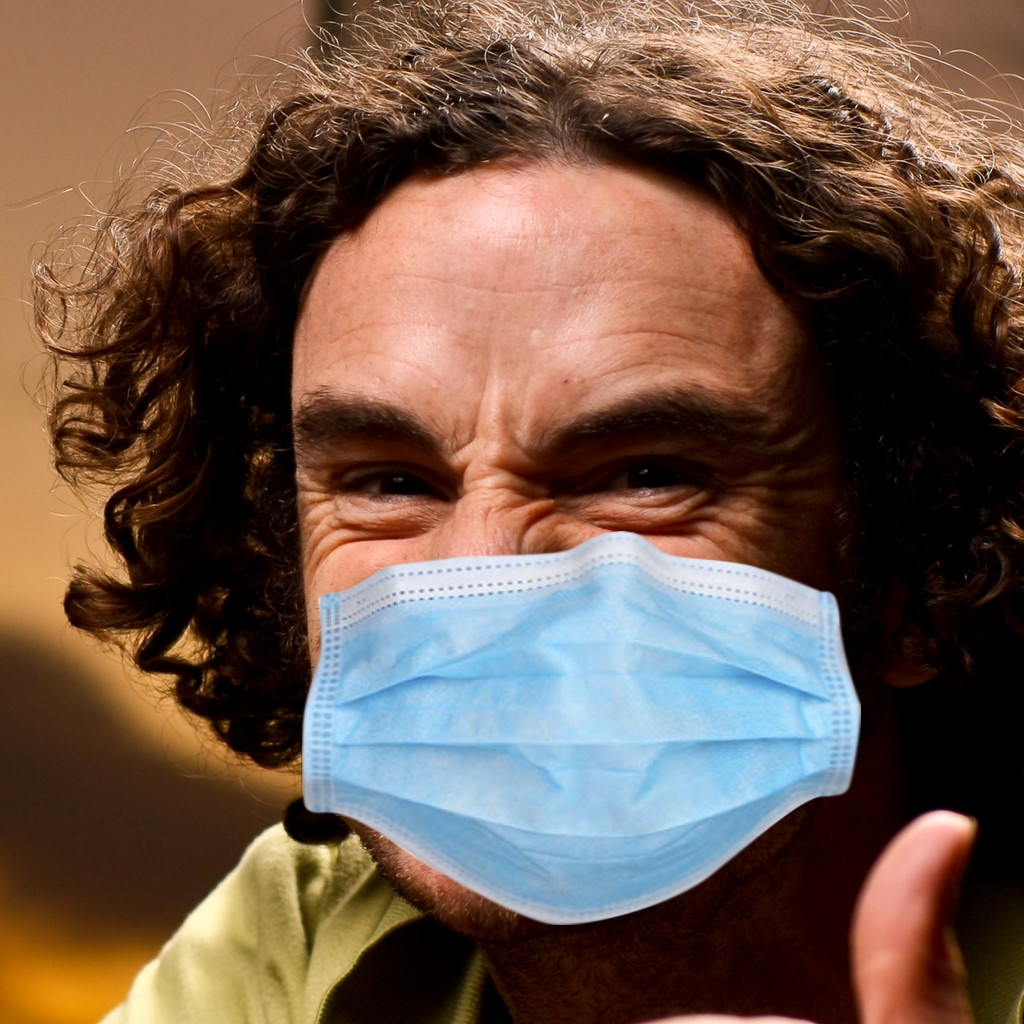con_mascara: (273, 170, 825, 940)
